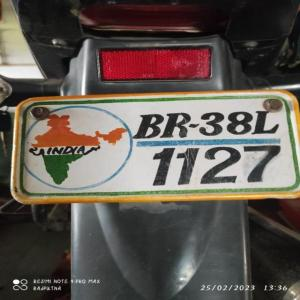Plate: (127, 97, 290, 194)
